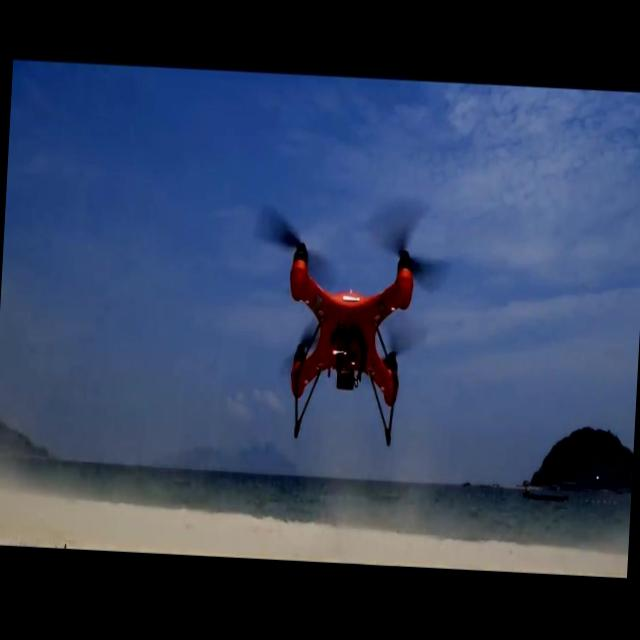drone: (248, 218, 438, 451)
